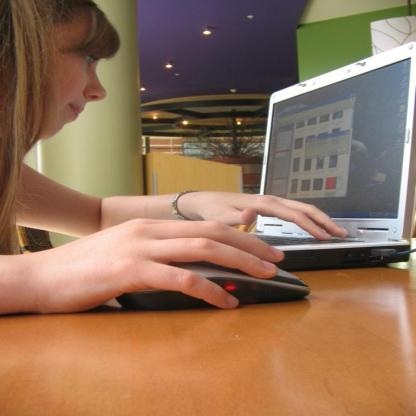board: (240, 38, 415, 272)
